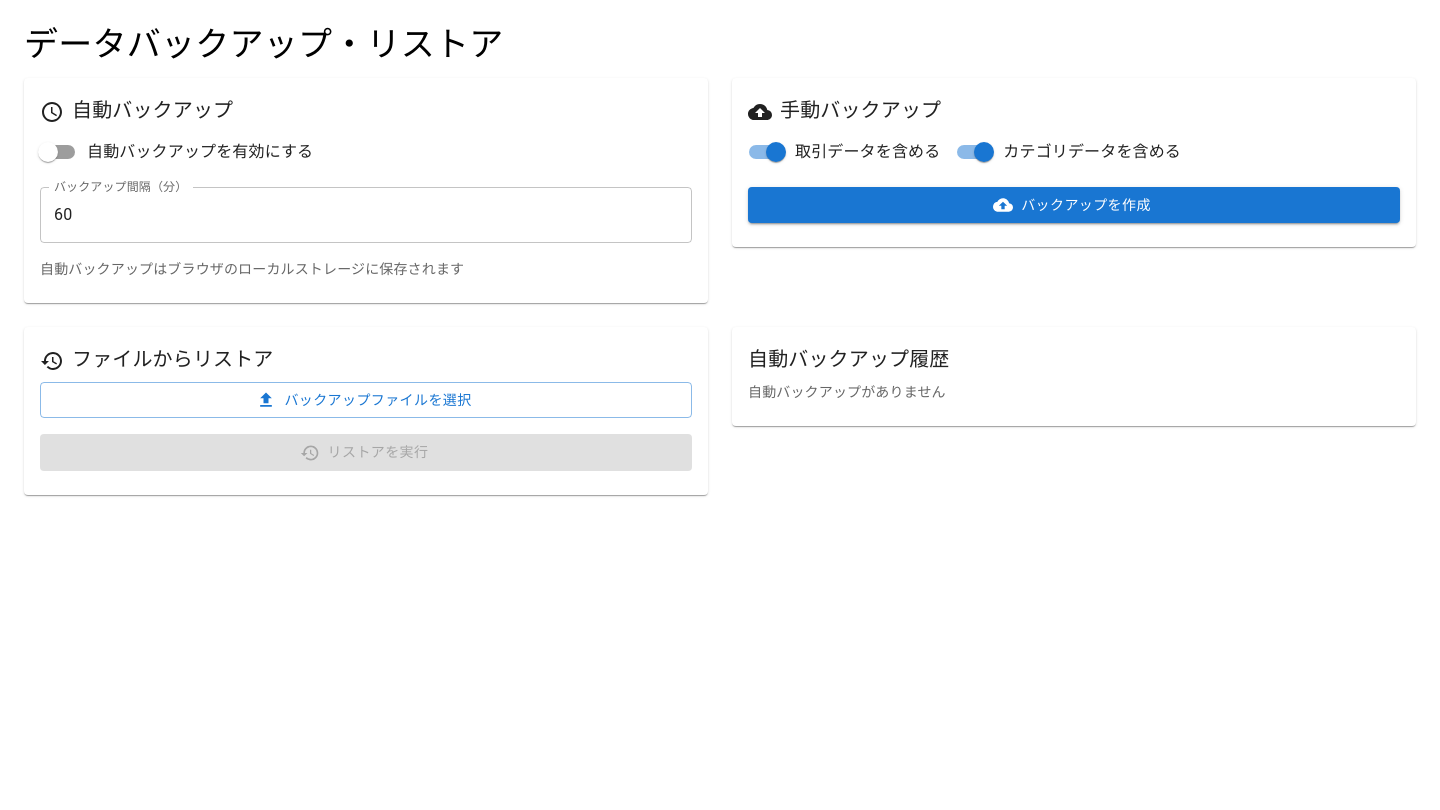
DataBackup › alert handling › should show success alert after successful backup
Click the button "バックアップを作成": (1074, 205) [748,187,1400,223]
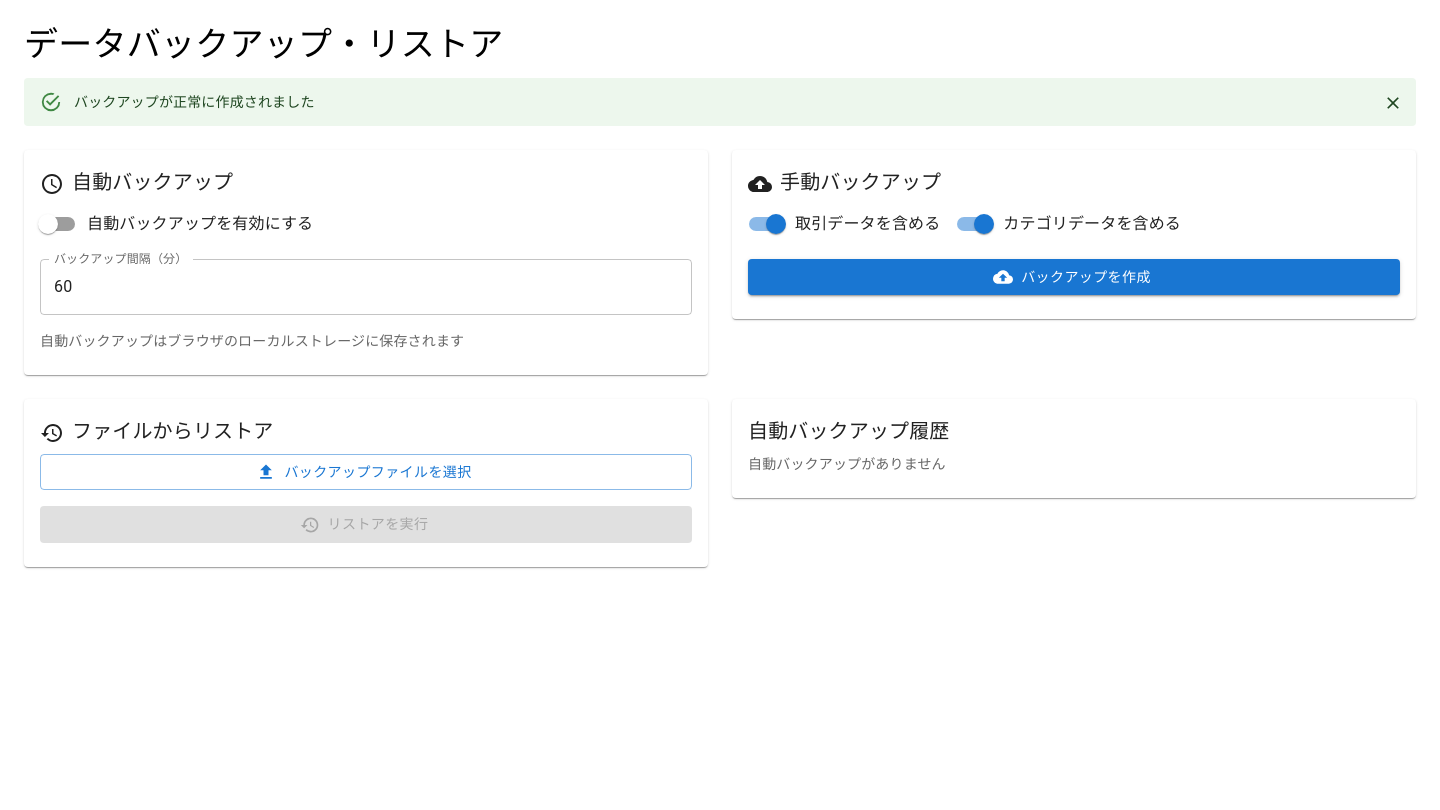
Check: the text "バックアップが正常に作成されました" is shown, box [74,94,315,110]
